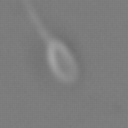normal: (19, 1, 53, 41)
